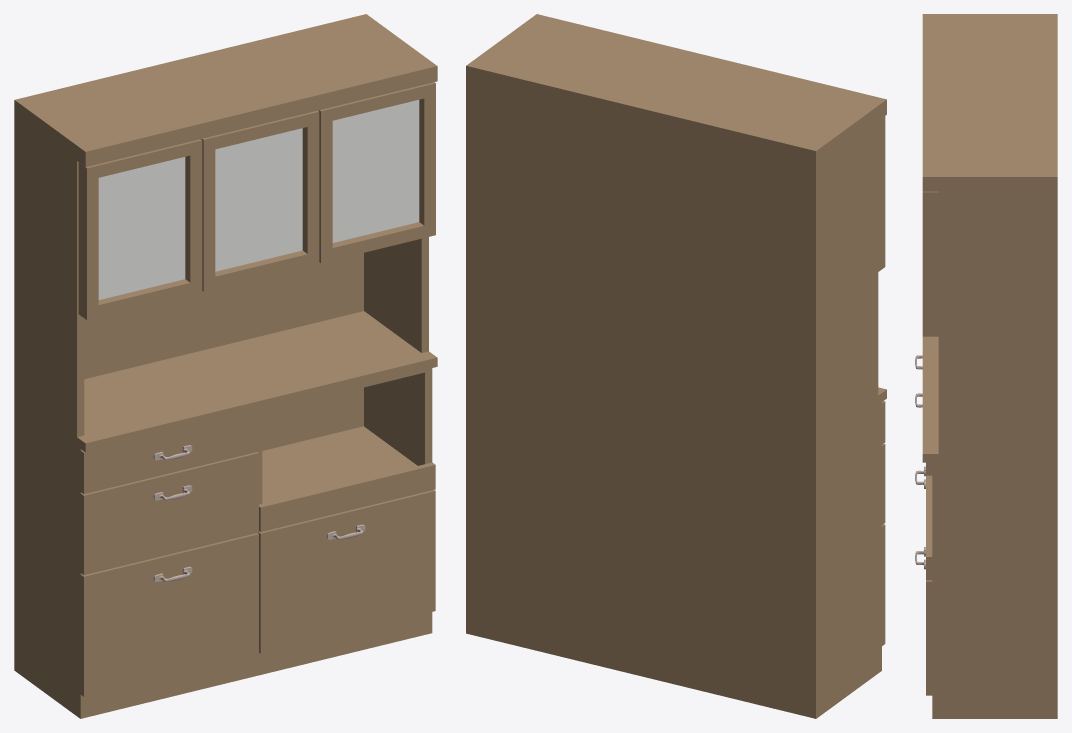
The model's file is 752_kitchen_cabinet.glb.
The picture shows the model from 3 angles, left to right: view 1: azimuth 30°, elevation 25°; view 2: azimuth 150°, elevation 25°; view 3: azimuth 270°, elevation 25°; orthographic projection. The views are drawn at different scales.
Parts seen in each view (by area): view 1: Body, drawer3, drawer4, door_left, door_center, door_right, drawer2, slider, drawer1; view 2: Body, door_left; view 3: Body, door_right, drawer4, slider.
Part boxes in pixels (box(x1,y1,x2,y2)): Body: box(14, 14, 437, 718); drawer3: box(80, 533, 258, 696); drawer4: box(258, 490, 435, 653); door_left: box(78, 139, 202, 320); door_center: box(201, 110, 319, 291); door_right: box(318, 82, 435, 262); drawer2: box(80, 452, 258, 575); slider: box(259, 426, 435, 531); drawer1: box(80, 410, 258, 493); Body: box(466, 14, 886, 718); door_left: box(878, 116, 885, 271); Body: box(922, 14, 1057, 718); door_right: box(922, 191, 938, 336); drawer4: box(915, 547, 932, 695); slider: box(926, 475, 932, 580).
Size of the model in its own units: 1.2 by 1.86 by 0.4427.
